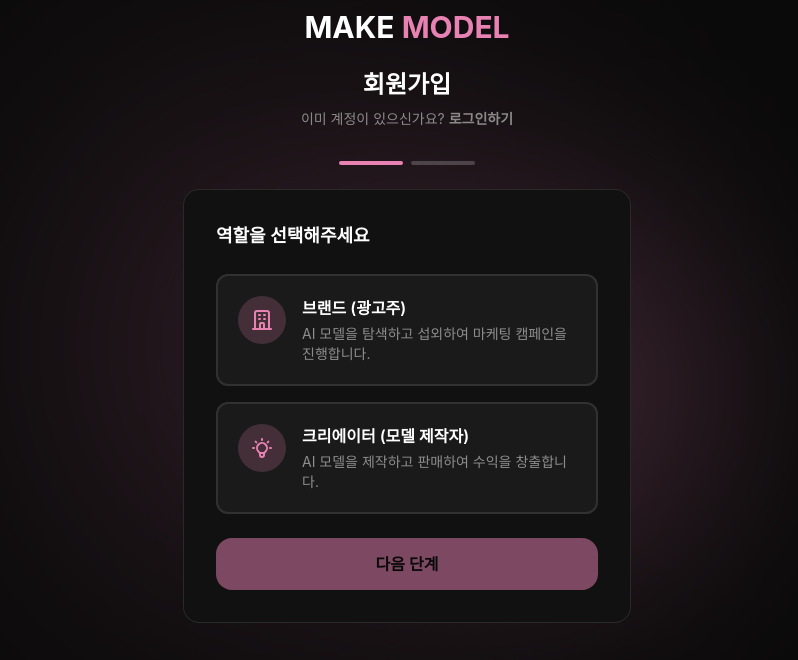
Test: SignupPage › should display password strength indicator
Note: Select brand
Click the heading "브랜드 (광고주)" at (354, 308), box [302,298,406,318]
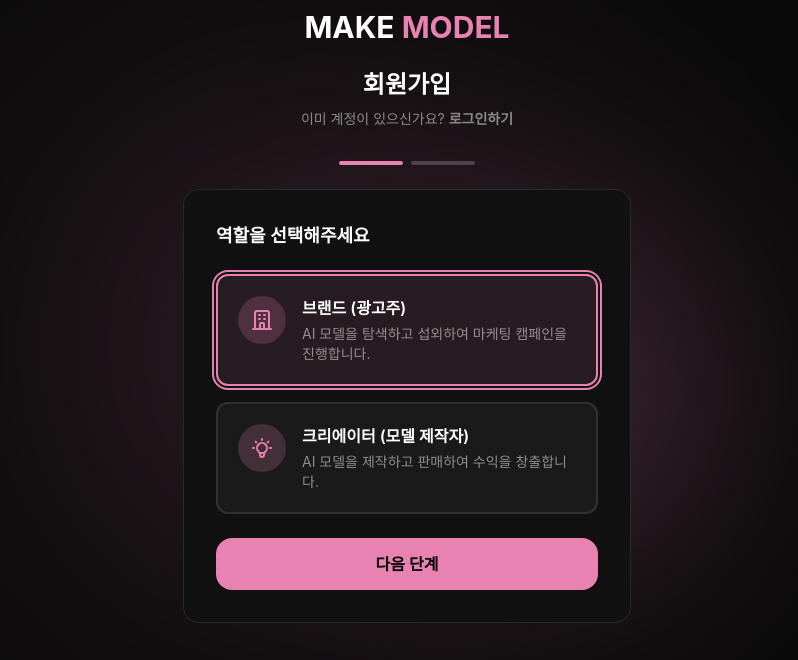
Note: Click next
Click the button "다음 단계" at (407, 564), box [216,538,598,590]
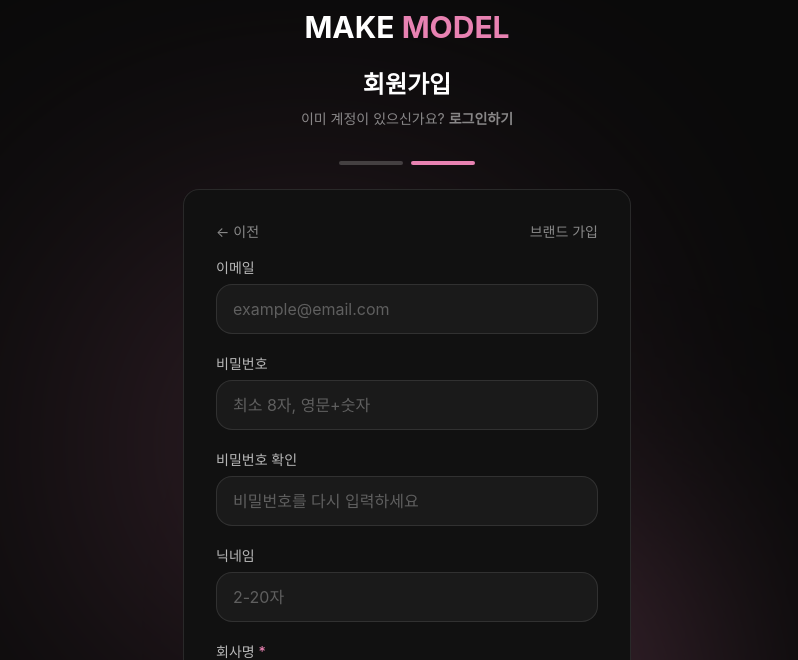
expect the field labelled "이메일" is shown: met, box [216,284,598,334]
Note: Type weak password (short)
Type "short" into the password field labelled "비밀번호" at (407, 405), box [216,380,598,430]
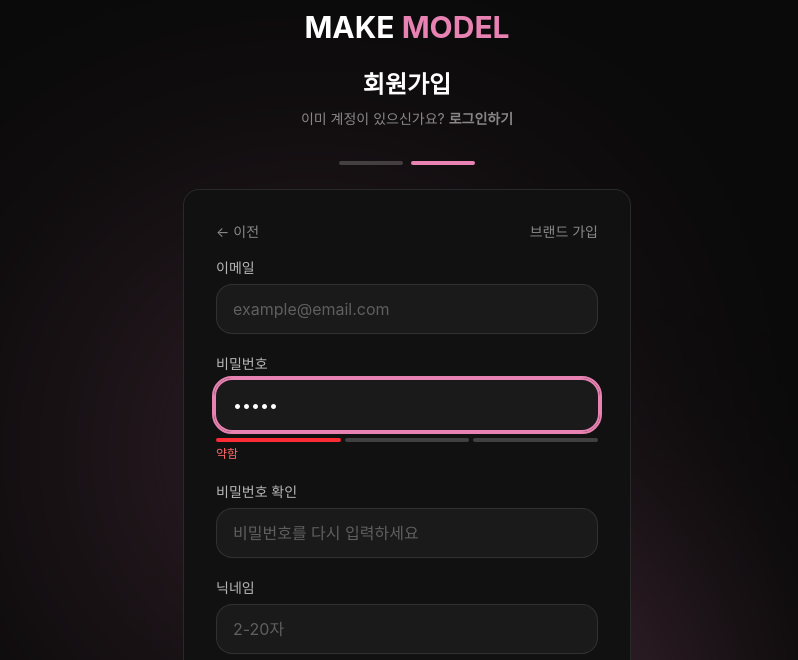
expect the text "약함" is shown: met, box [216,446,238,461]
Note: Clear and type medium strength password
Type "Medium123" into the password field labelled "비밀번호" at (407, 405), box [216,380,598,430]
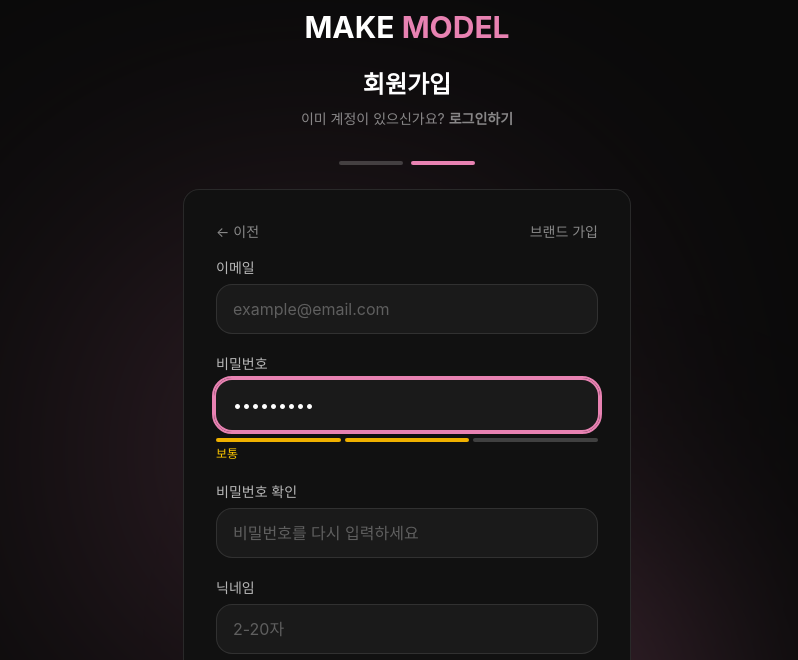
expect the text "보통" is shown: met, box [216,446,238,461]
Note: Clear and type strong password
Type "VeryStrong@Pass123!" into the password field labelled "비밀번호" at (407, 405), box [216,380,598,430]
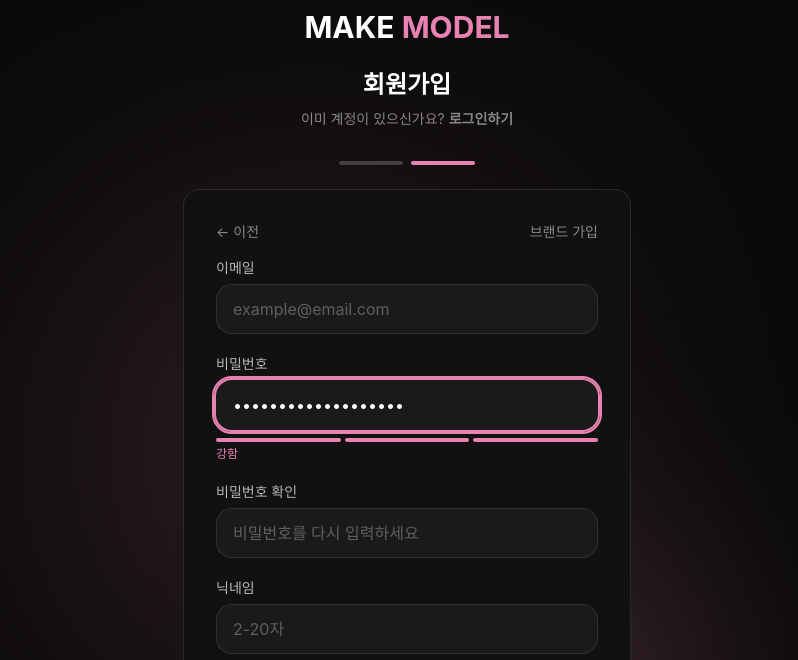
expect the text "강함" is shown: met, box [216,446,238,461]
